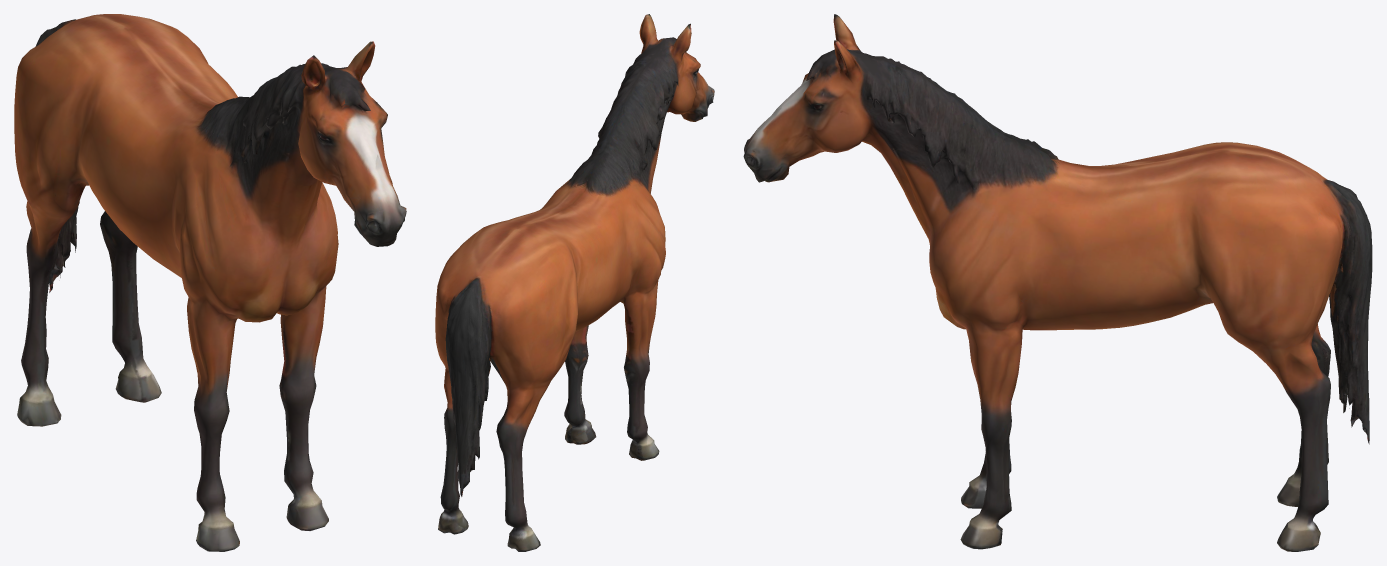
File: 1761089305005_cavaloEpiderme.glb
3 views of the same model, side by side, from view 1: azimuth 30°, elevation 25°; view 2: azimuth 150°, elevation 25°; view 3: azimuth 270°, elevation 25° (orthographic). The views are drawn at different scales.
Visible parts, largest first — view 1: Mesh1.0; view 2: Mesh1.0; view 3: Mesh1.0.
Part boxes in pixels (x1,y1,x2,y2): Mesh1.0: (14, 14, 406, 551); Mesh1.0: (435, 14, 714, 551); Mesh1.0: (743, 14, 1372, 551).
Bounding box in the file's own units: 0.5438 × 1.66 × 1.91.
1 material, 1 textured.
